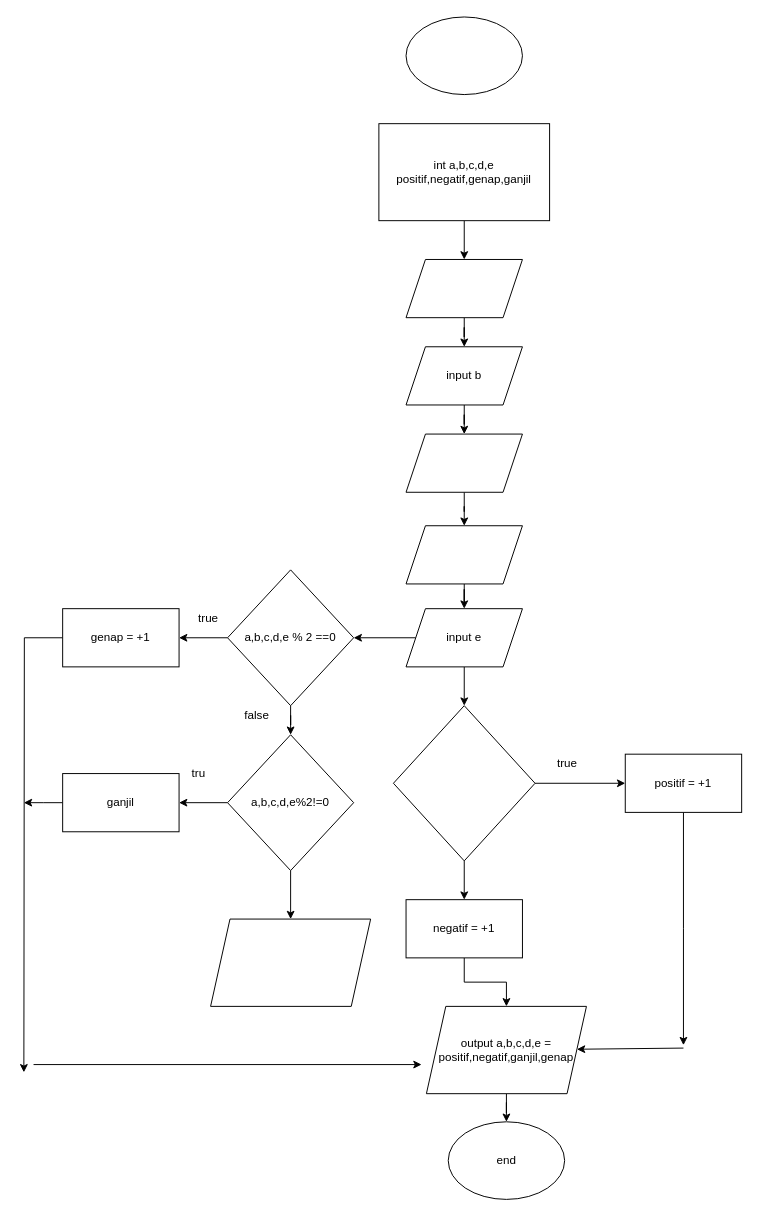
This 759x1216 diagram has some shape labels left out. Each missing label, with the centre of its shape:
a,b,c,d,e > 0: (463,783)
input a: (463,288)
input c: (463,462)
input d: (463,554)
output "bilangan tidak valid": (290,962)
start: (463,55)
